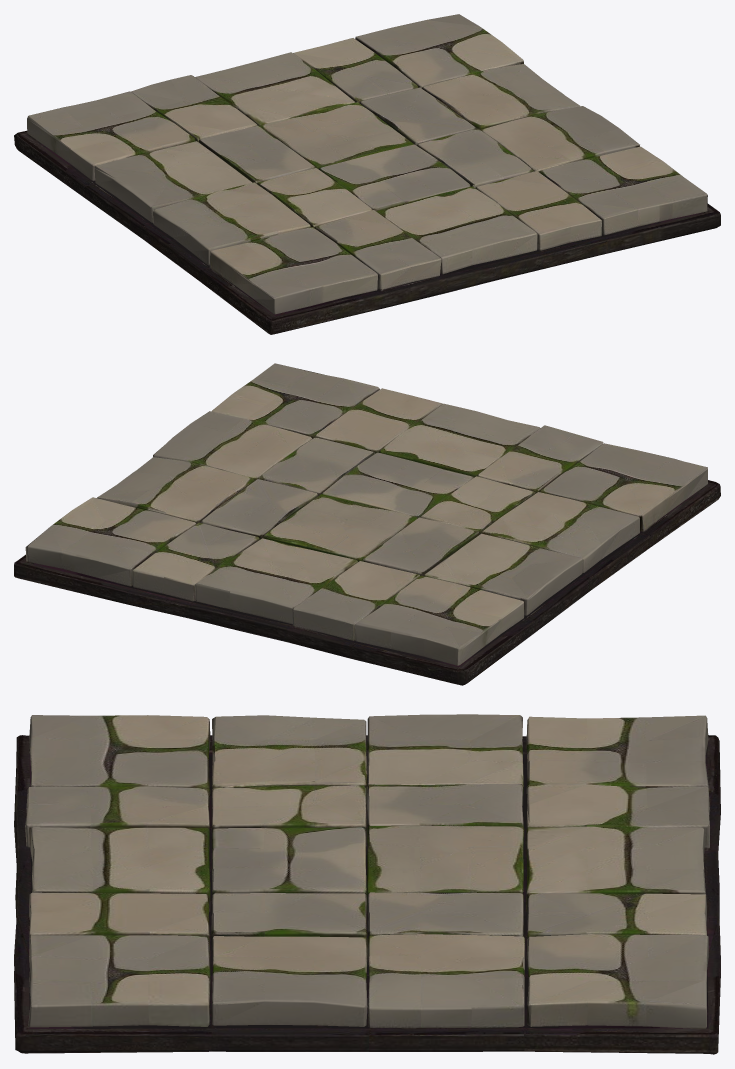
The model's file is PathTile.glb.
3 renders of one model, top to bottom at view 1: azimuth 30°, elevation 25°; view 2: azimuth 150°, elevation 25°; view 3: azimuth 270°, elevation 25°, orthographic. The views are drawn at different scales.
Size of the model in its own units: 2 by 0.15 by 2.
1 material, 1 textured.
